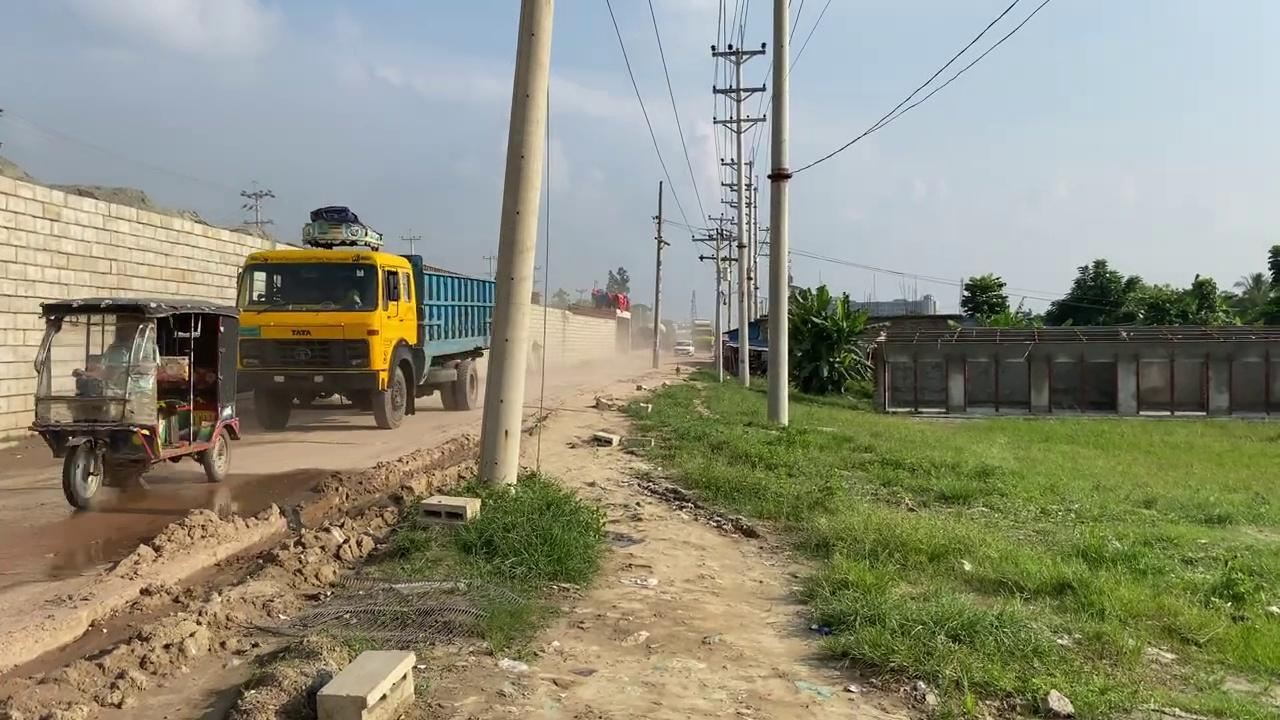Car: (673, 339, 694, 356)
Fence: (871, 325, 1278, 418)
Obstacle: (415, 494, 481, 528)
Pole: (476, 0, 555, 491), (765, 0, 790, 427), (651, 180, 664, 368)
Rickshaw: (423, 359, 913, 719)
Traffic-sign: (786, 283, 874, 396), (959, 271, 1010, 325)
Tree: (234, 204, 497, 430), (28, 296, 241, 510)
